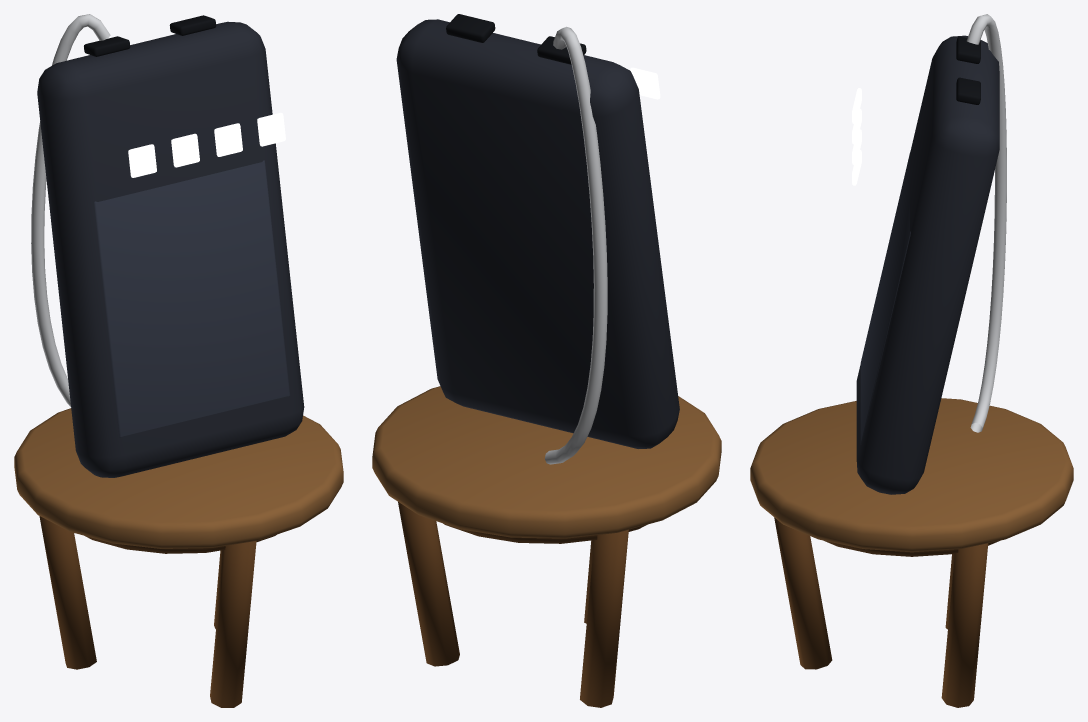
File: charge-powerbank.glb
The picture shows the model from 3 angles, left to right: view 1: azimuth 30°, elevation 25°; view 2: azimuth 150°, elevation 25°; view 3: azimuth 270°, elevation 25°; orthographic projection. The views are drawn at different scales.
Visible parts, largest first — view 1: body.002, stand.002, glow.002; view 2: body.002, stand.002, glow.002; view 3: stand.002, body.002, glow.002.
Boxes of the visible parts, x1,y1,x2,y2 form: body.002: (31,14,304,477); stand.002: (14,408,343,707); glow.002: (128,112,285,177); body.002: (396,14,679,464); stand.002: (372,386,721,707); glow.002: (630,67,660,99); stand.002: (750,398,1073,707); body.002: (856,14,1006,494); glow.002: (852,88,861,185).
Bounding box in the file's own units: 0.4 × 0.8515 × 0.4.
